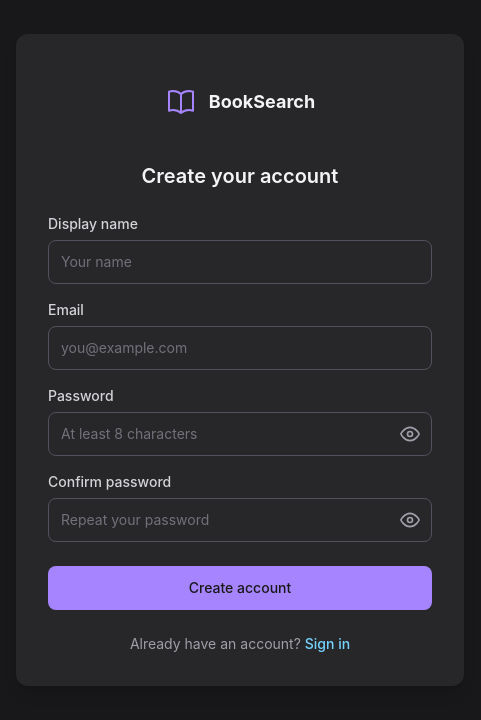
it: RegisterView integration › shows error AlertMessage when registration fails
Type "Test User" into the field labelled "Display name". click: (240, 262)
box: top-left (48, 240), bottom-right (432, 284)
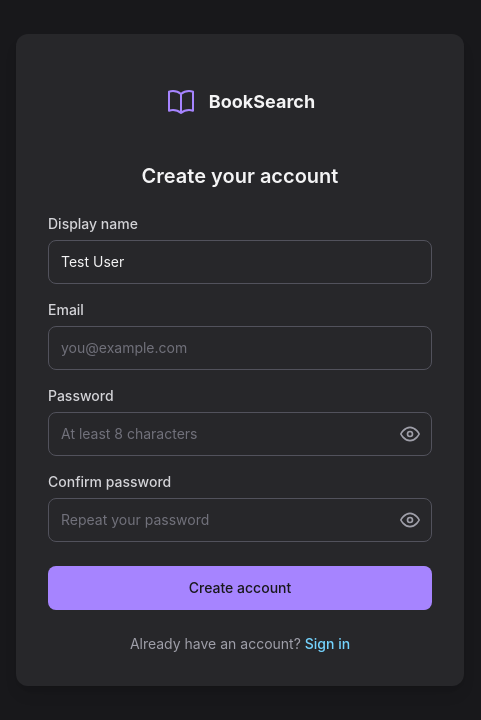
Type "test@example.com" into the field labelled "Email". click: (240, 348)
box: top-left (48, 326), bottom-right (432, 370)
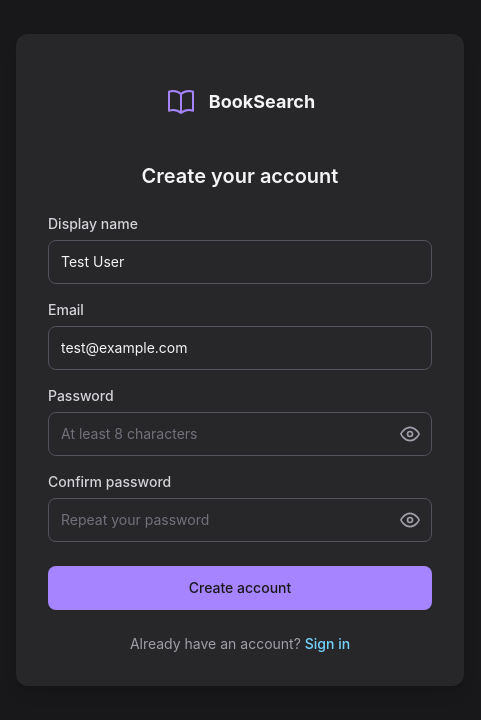
Type "password123" into the password field labelled "Password". click: (240, 434)
box: top-left (48, 412), bottom-right (432, 456)
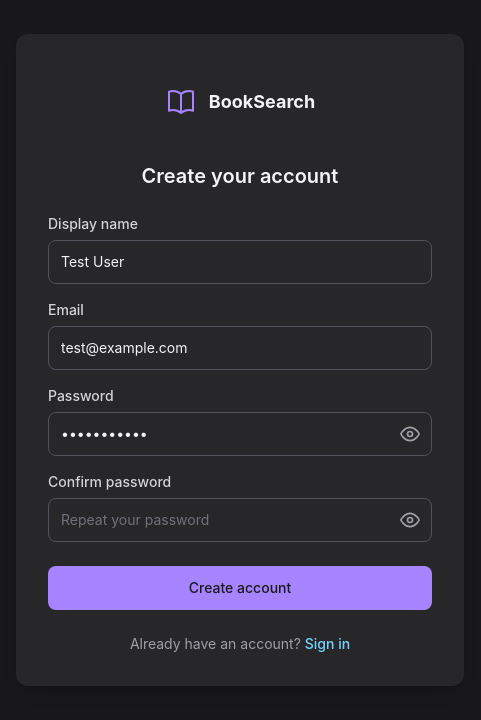
Type "password123" into the password field labelled "Confirm password". click: (240, 520)
box: top-left (48, 498), bottom-right (432, 542)
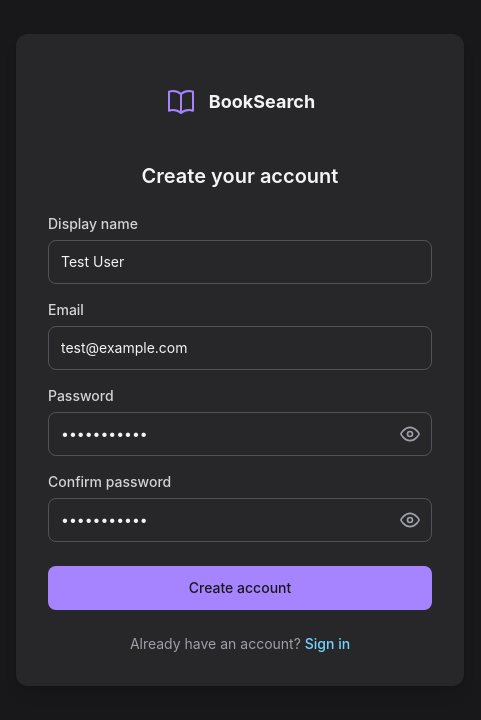
Submit the form, box top-left (48, 214), bottom-right (432, 610)
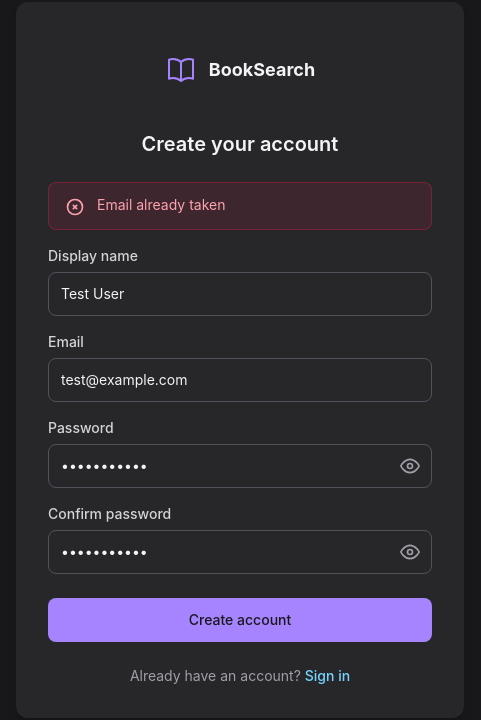
Check: the message "Email already taken" is shown, box top-left (48, 182), bottom-right (432, 230)
